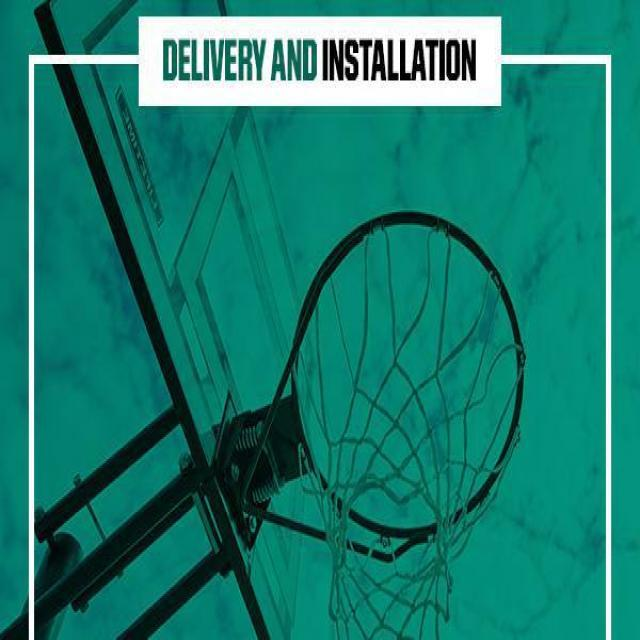hoop: (291, 212, 527, 639)
